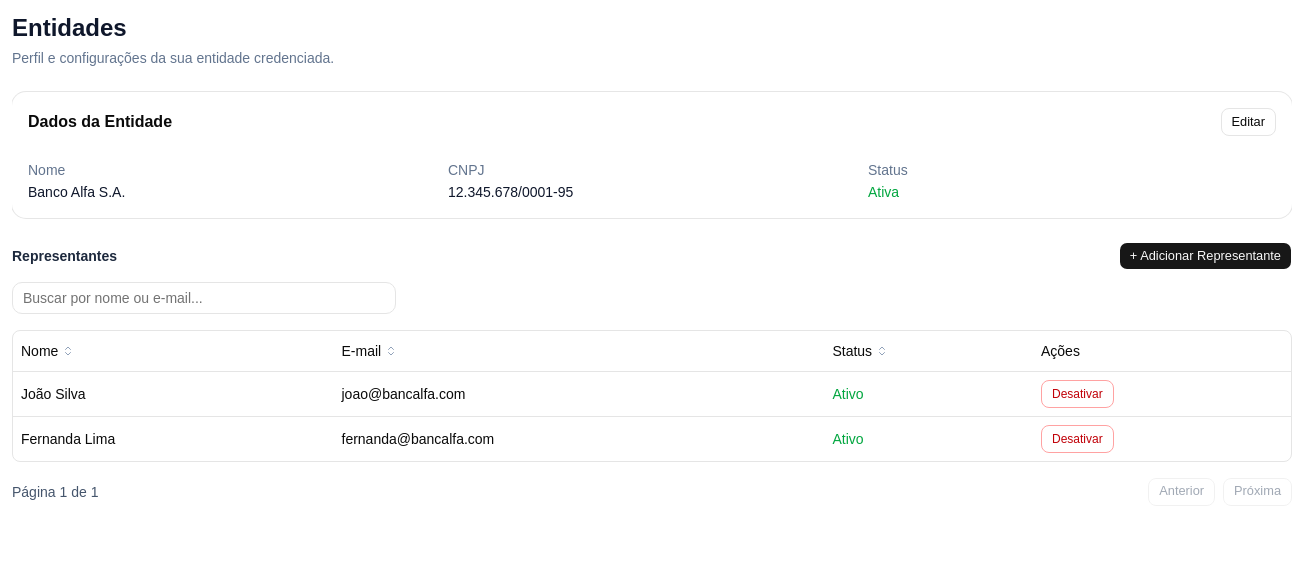
Test case: InstitutionsPage — edit institution › shows edit form when Editar is clicked
Click the button "Editar" at (1248, 122), box top-left (1221, 108), bottom-right (1276, 136)
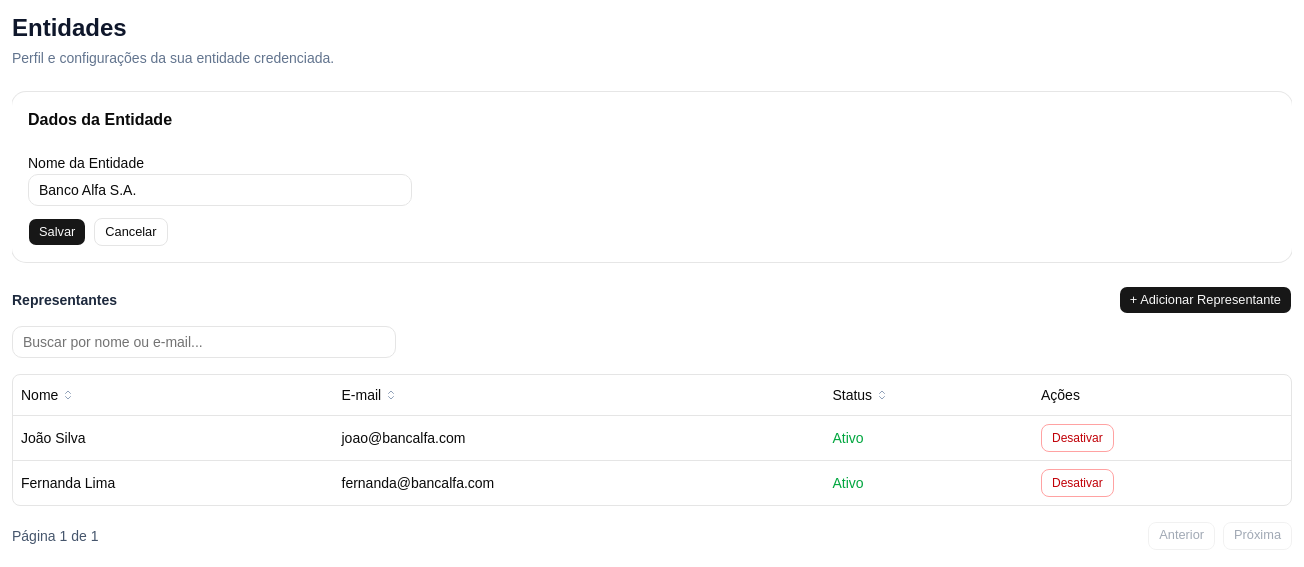
Result: the field labelled "Nome da Entidade" is shown at top-left (28, 174), bottom-right (412, 206)
